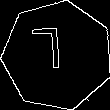L_S: (40, 30, 74, 82)
